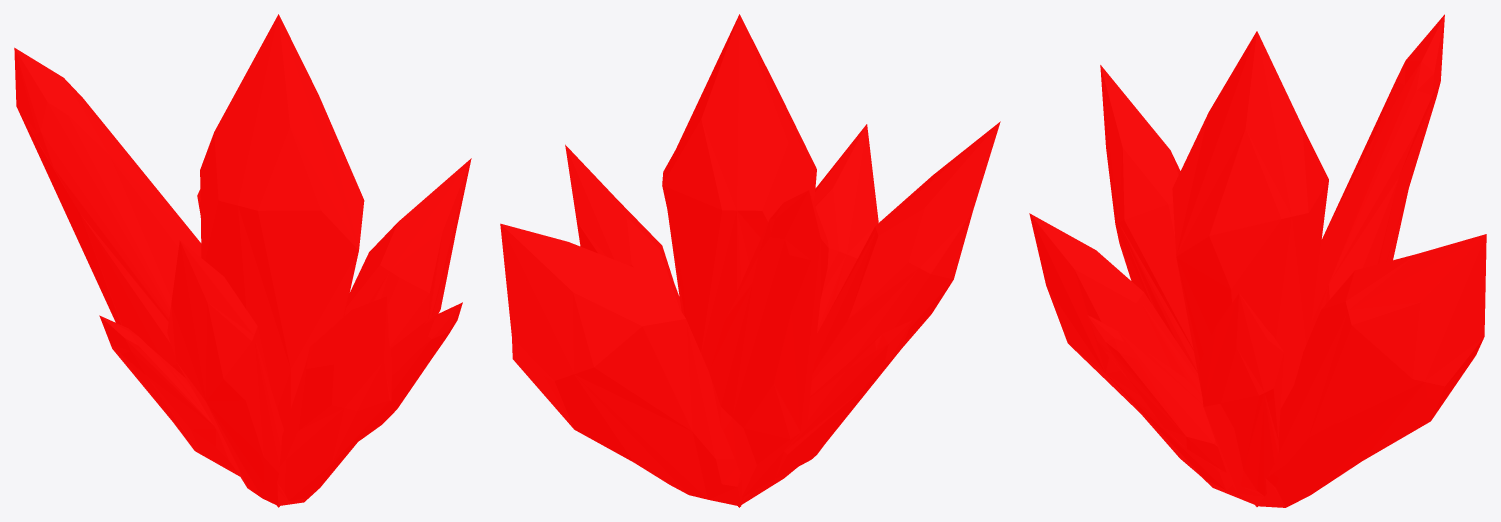
File: FireCrystalFinished.fbx
3 renders of one model, left to right at view 1: azimuth 30°, elevation 25°; view 2: azimuth 150°, elevation 25°; view 3: azimuth 270°, elevation 25°, orthographic. The views are drawn at different scales.
Visible parts, largest first — view 1: FireCrystal; view 2: FireCrystal; view 3: FireCrystal.
Part boxes in pixels (x1,y1,x2,y2): FireCrystal: (14, 14, 471, 507); FireCrystal: (500, 14, 1000, 507); FireCrystal: (1029, 14, 1486, 507).
Bounding box in the file's own units: 15.05 × 19.53 × 16.98.
